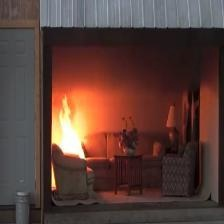fire: (49, 94, 98, 158)
